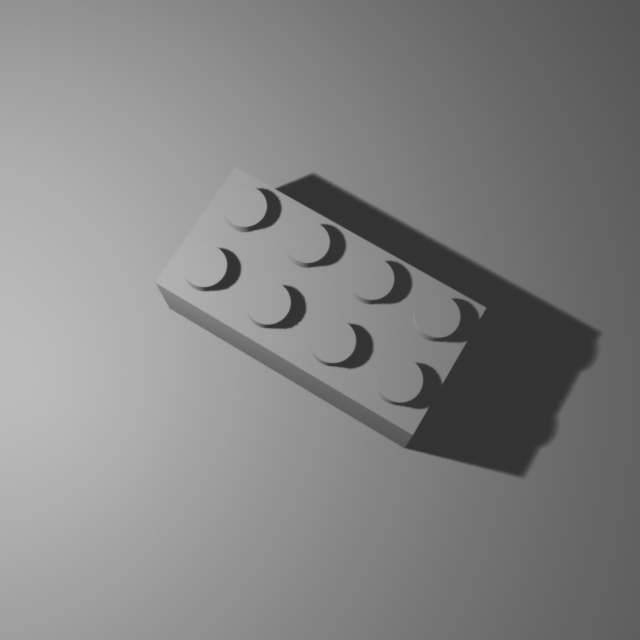lego_2x4: (152, 160, 489, 448)
